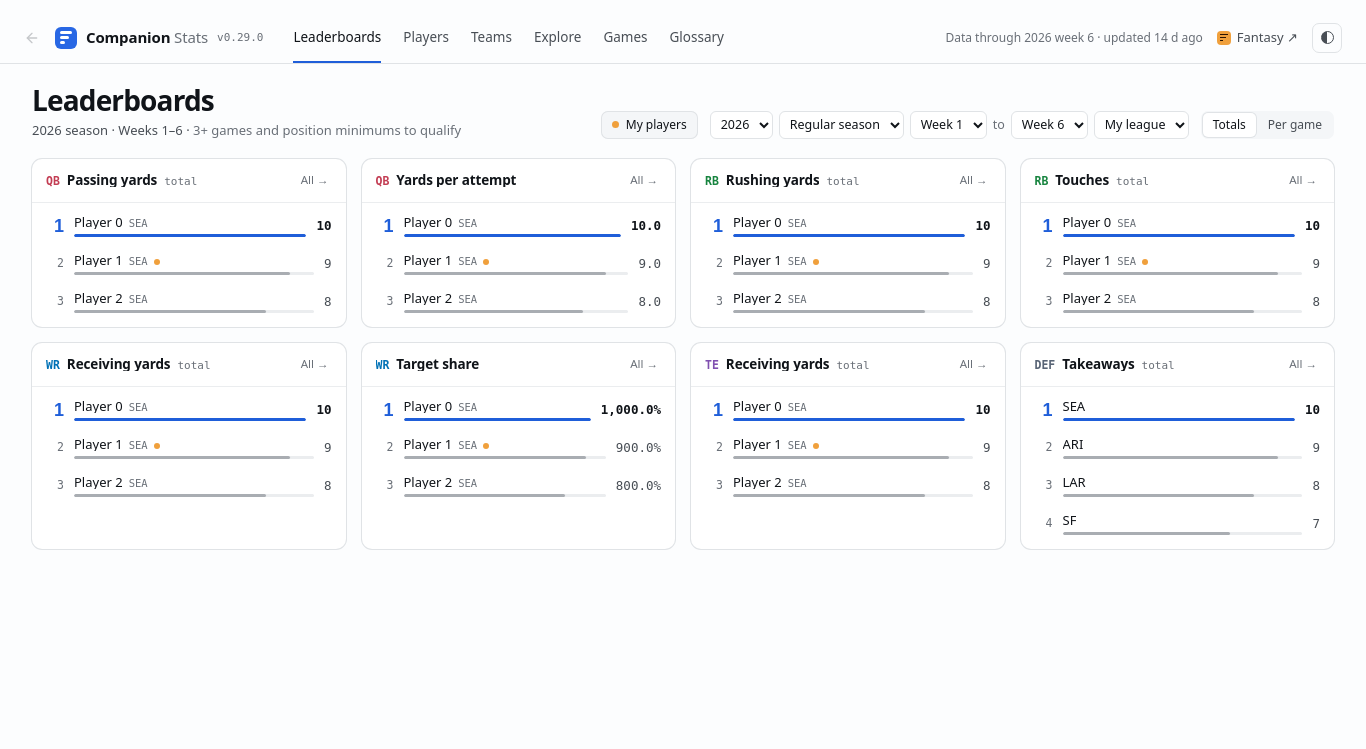
it: the team dashboard (spec §9.3) › never shows the last team’s or tab’s answers while the next ones load
Click the button "Teams" at (491, 38), box [471, 12, 512, 63]
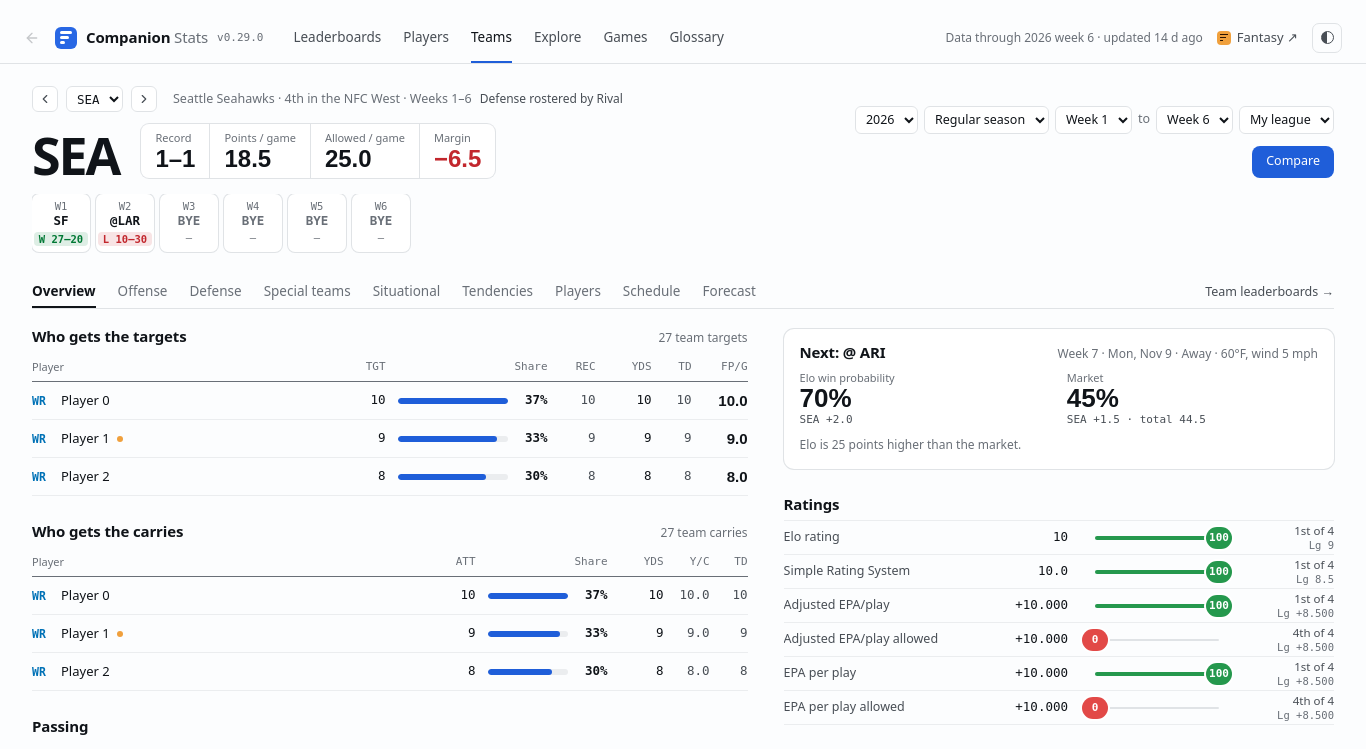
Expected: the text "Player 0" below "TGT" is shown, [61, 391, 110, 409]
Expected: the heading "SEA" is shown, [32, 133, 119, 178]
Expected: the text "1–1" is shown, [155, 148, 195, 170]
Click the button named "Next team" at (144, 99), box [131, 86, 157, 112]
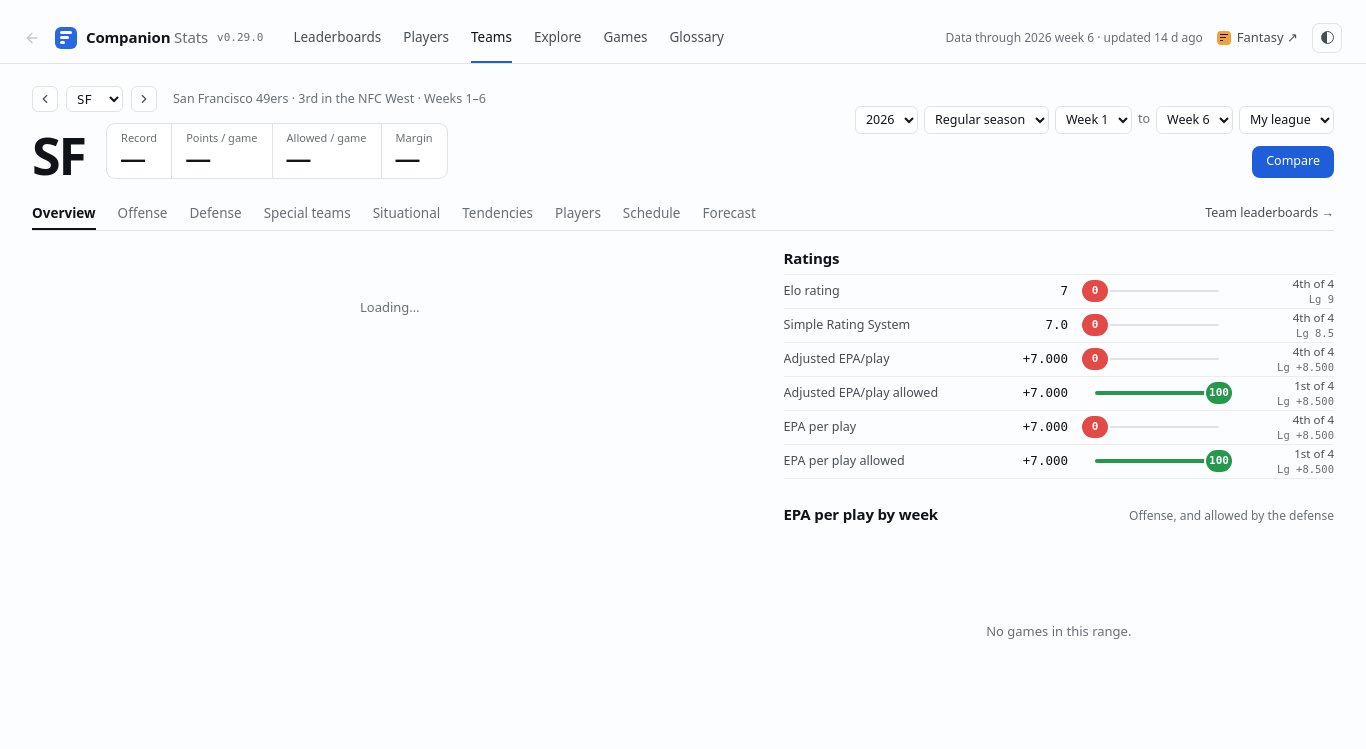
Expected: the heading "SF" is shown, [32, 133, 85, 178]
Expected: the button "Player 0" is gone
Expected: the text "1–1" is gone
Click the tab "Offense" at (143, 214), box [118, 198, 168, 230]
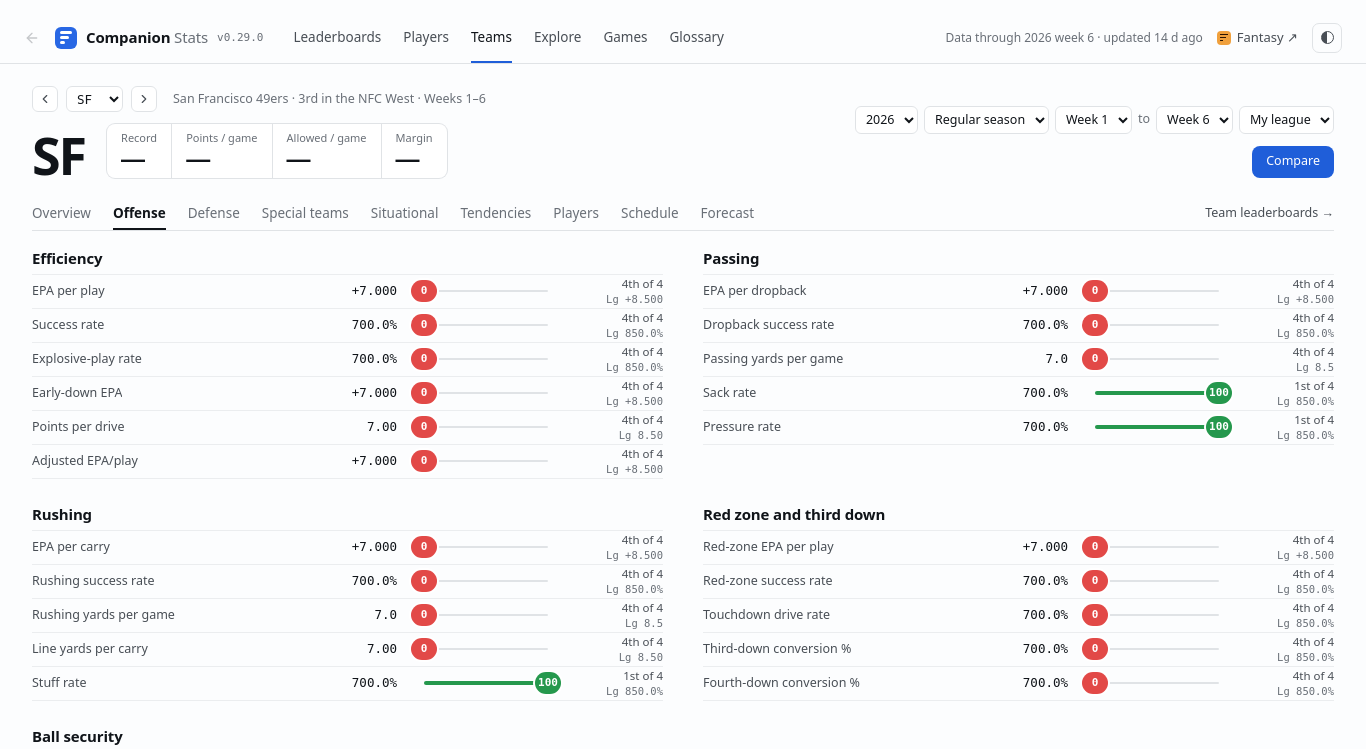
Expected: the text "Red-zone EPA per play" is shown, [703, 539, 834, 555]
Click the tab "Defense" at (214, 214), box [188, 198, 240, 230]
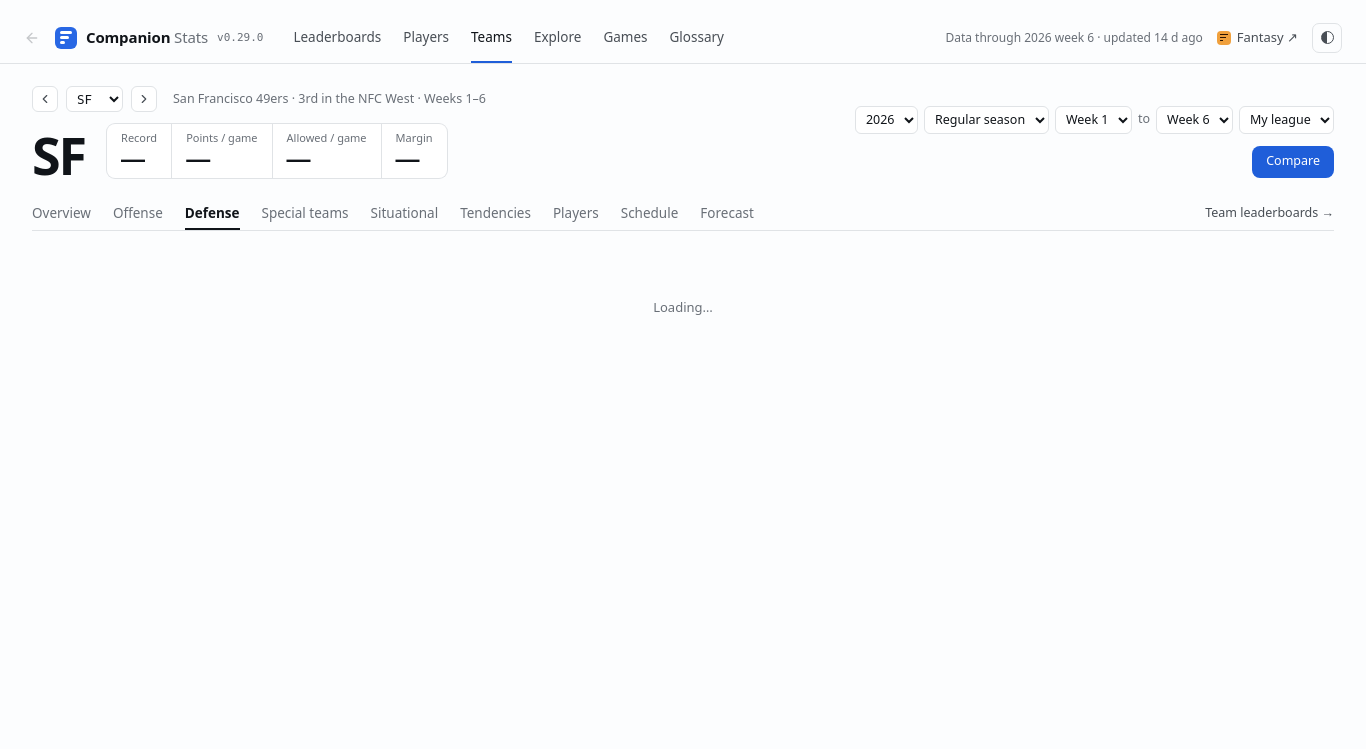
Expected: the text "EPA per play allowed" is not shown
Expected: the text "Red-zone EPA per play" is gone
Expected: the text "Loading…" is shown, [653, 298, 713, 316]
